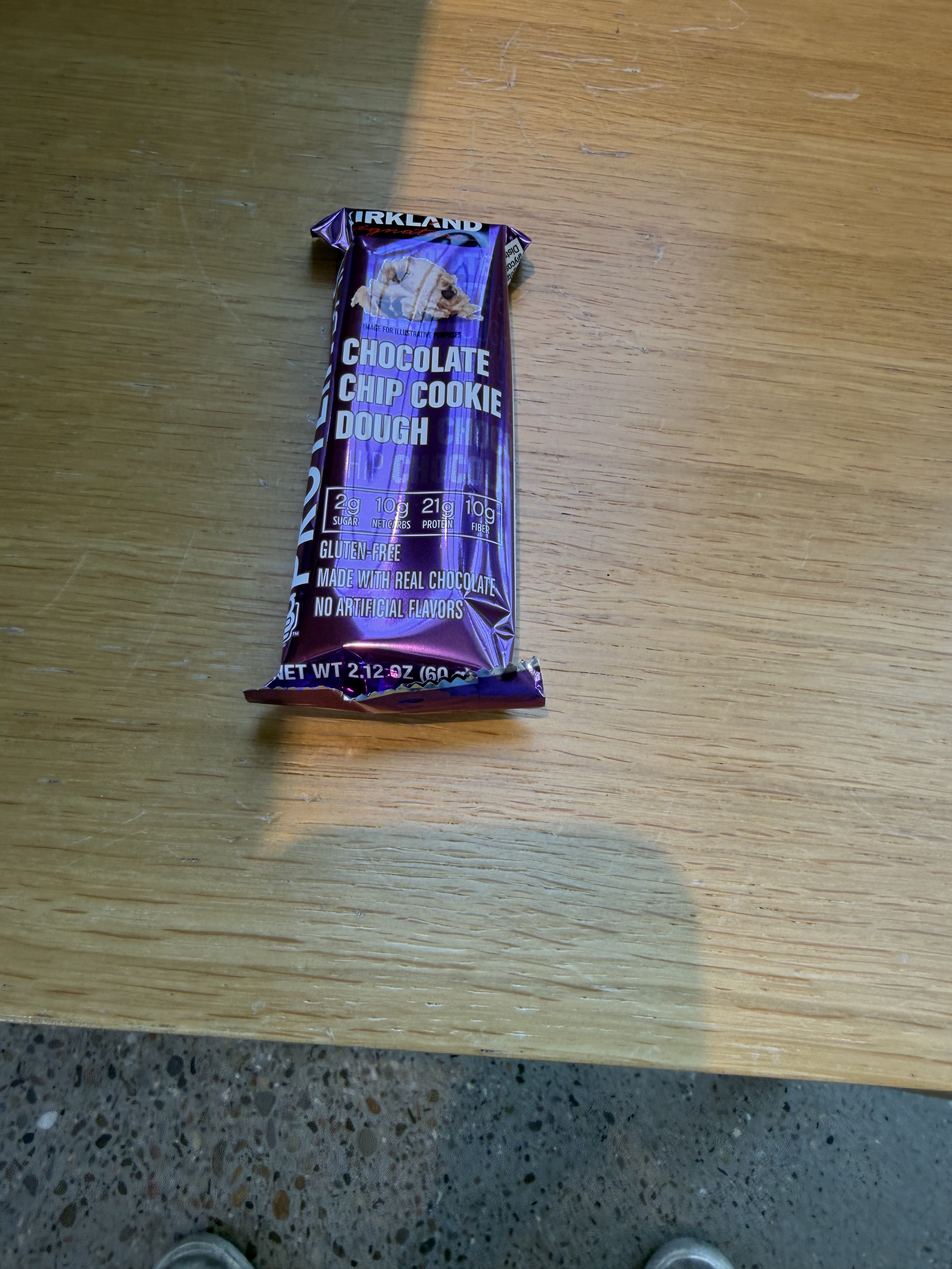chocolate_chip_cookie_dough: (303, 188, 548, 736)
